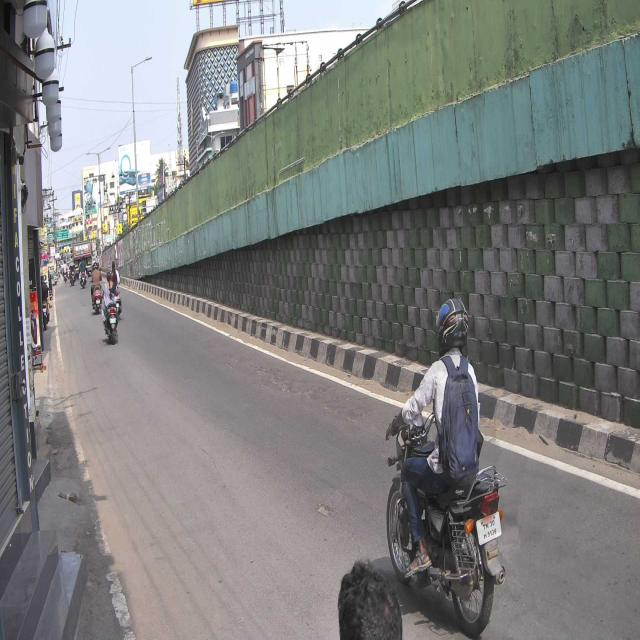single_rider: (382, 295, 506, 640)
